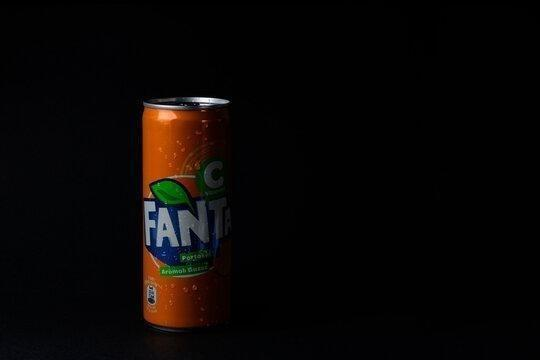tin can: (137, 93, 236, 333)
